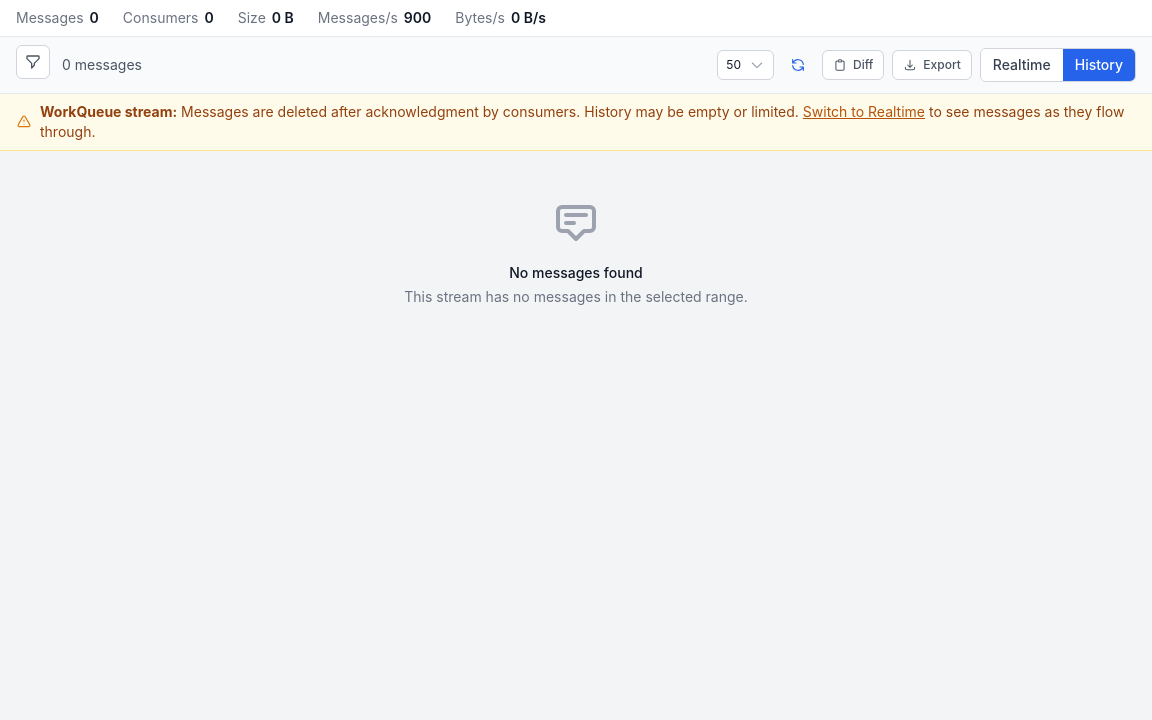
it: UnifiedMessageList search › searches the whole stream on the server once a text filter is applied
The width and height of the screenshot is (1152, 720).
Click the button named "filters": (33, 62) [16,45,50,79]
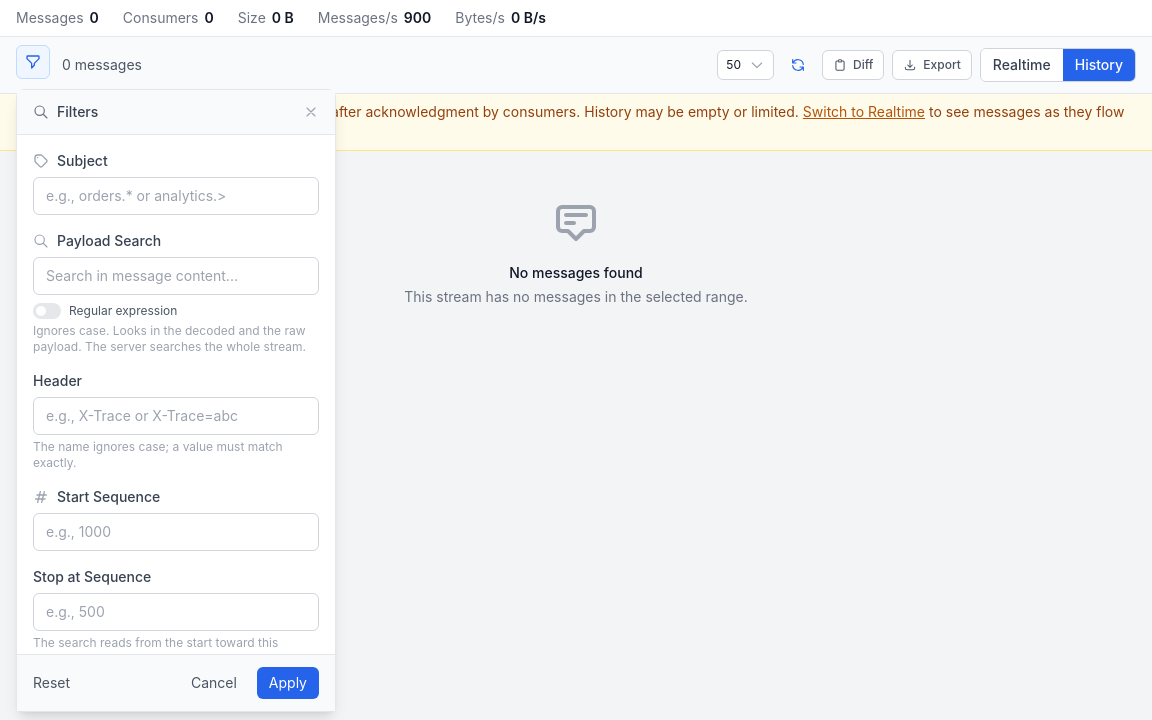
In the field labelled "Payload Search": (176, 276) [33,257,319,295], type "needle"
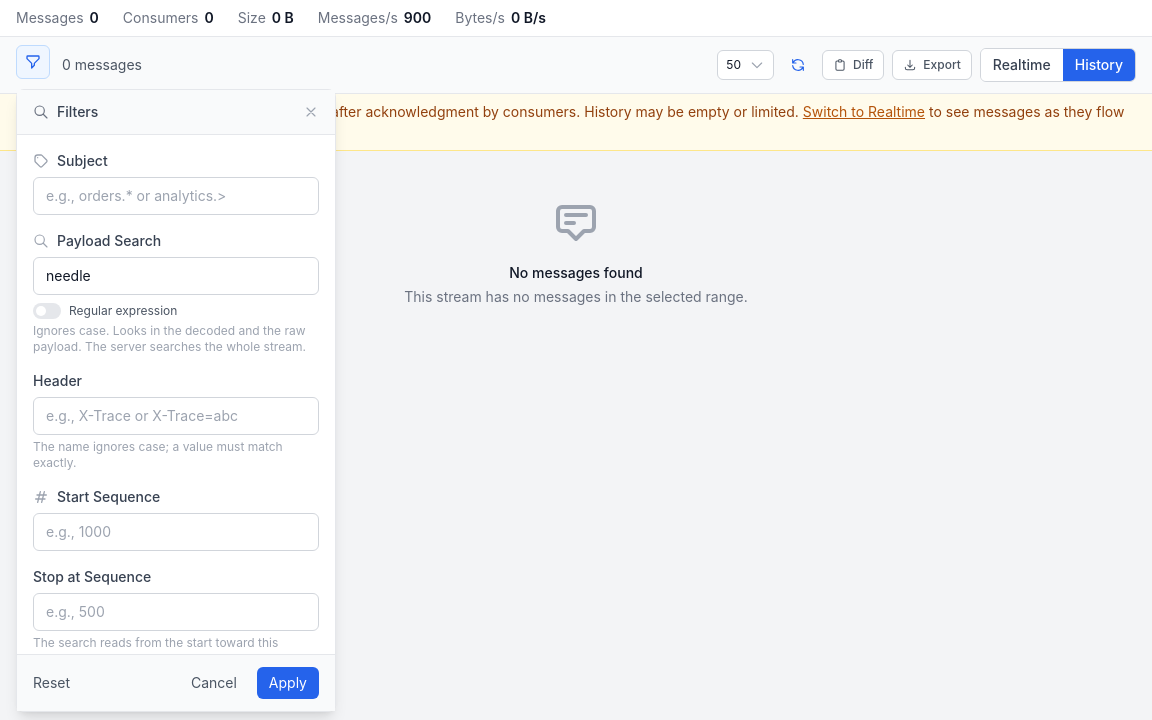
Click the button "Apply": (288, 683) [257,667,319,699]
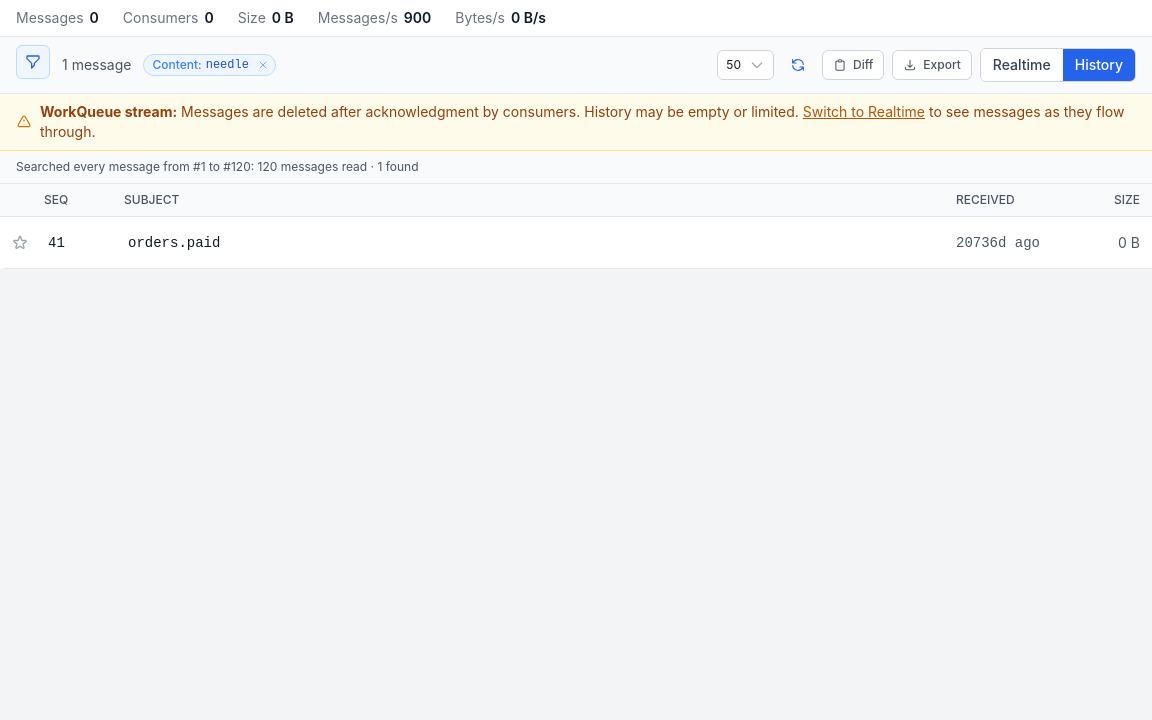
Now the element with test id "search-status" shows "120 messages read · 1 found", box [16,159,418,174]
